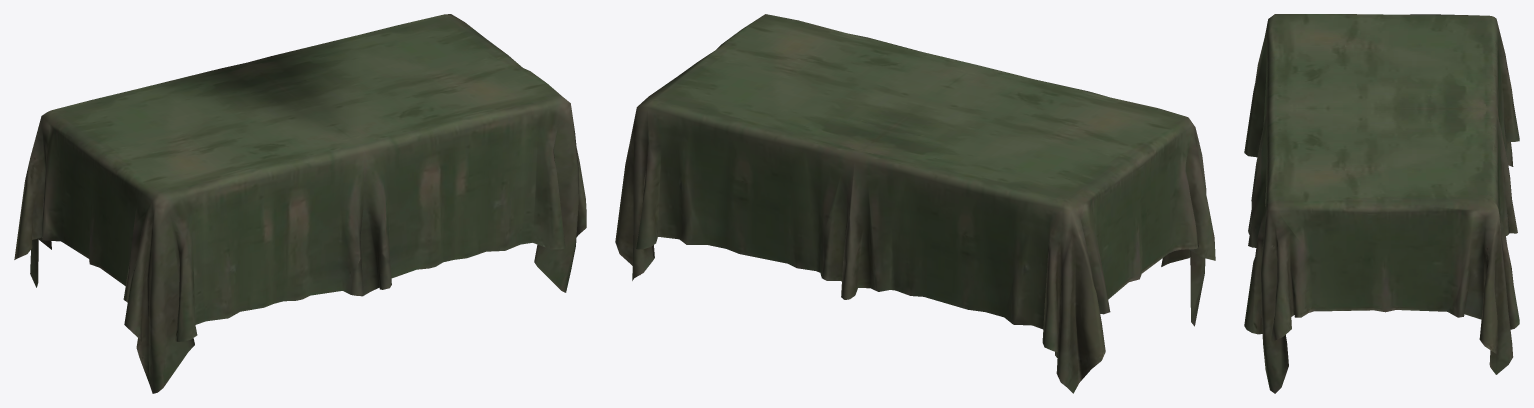
Rendered from crate_cover_300x600.glb.
The picture shows the model from 3 angles, left to right: view 1: azimuth 30°, elevation 25°; view 2: azimuth 150°, elevation 25°; view 3: azimuth 270°, elevation 25°; orthographic projection. The views are drawn at different scales.
Visible parts, largest first — view 1: crate_cover_300x600; view 2: crate_cover_300x600; view 3: crate_cover_300x600.
Part boxes in pixels (x1=…): crate_cover_300x600: x1=14, y1=14, x2=586, y2=393; crate_cover_300x600: x1=615, y1=14, x2=1215, y2=393; crate_cover_300x600: x1=1244, y1=14, x2=1519, y2=393.
Size of the model in its own units: 6.77 by 2.78 by 3.64.
1 material, 1 textured.
